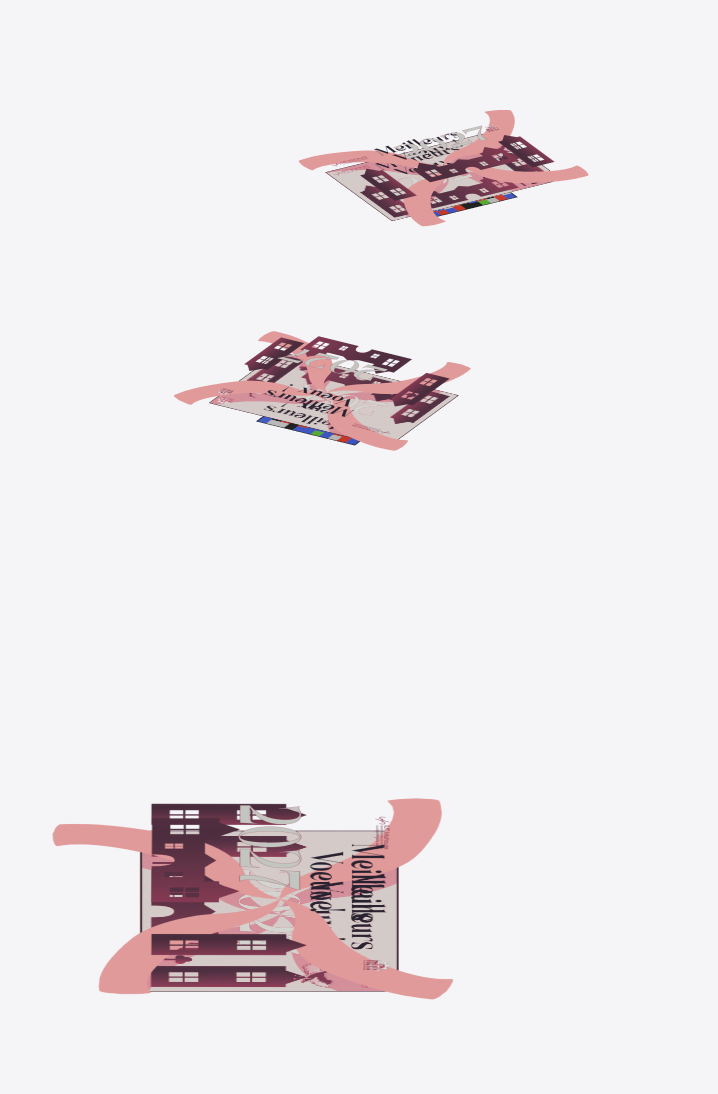
Rendered from Little_Planet.glb.
The picture shows the model from 3 angles, top to bottom: view 1: azimuth 30°, elevation 25°; view 2: azimuth 150°, elevation 25°; view 3: azimuth 270°, elevation 25°; orthographic projection. The views are drawn at different scales.
Parts seen in each view (by area): view 1: Screenshot 2026-10-23 140628, effet 1, prefect, tour g, tour d, 2027, ExampleImage, MEILL; view 2: Screenshot 2026-10-23 140628, effet 1, prefect, tour g, tour d, ExampleImage, 2027, MEILL; view 3: Screenshot 2026-10-23 140628, effet 1, prefect, tour d, 2027, tour g, MEILL.
Part boxes in pixels (x1,y1,x2,y2): Screenshot 2026-10-23 140628: (325,133,553,221); effet 1: (299,110,588,226); prefect: (413,147,518,182); tour g: (360,168,416,200); tour d: (498,135,554,167); 2027: (393,125,487,158); ExampleImage: (433,192,517,216); MEILL: (374,132,462,159); Screenshot 2026-10-23 140628: (209,354,458,439); effet 1: (174,331,470,450); prefect: (300,336,411,373); tour g: (390,373,449,406); tour d: (244,337,303,370); ExampleImage: (256,416,359,445); 2027: (277,348,387,380); MEILL: (264,384,353,416); Screenshot 2026-10-23 140628: (139,830,398,991); effet 1: (52,798,452,999); prefect: (151,818,239,902); tour d: (151,934,306,955); 2027: (238,805,301,889); tour g: (151,803,306,824); MEILL: (310,844,385,920).
Size of the model in its own units: 5.47 by 0.47 by 3.29.
Materials: 9 (9 with a texture image).
